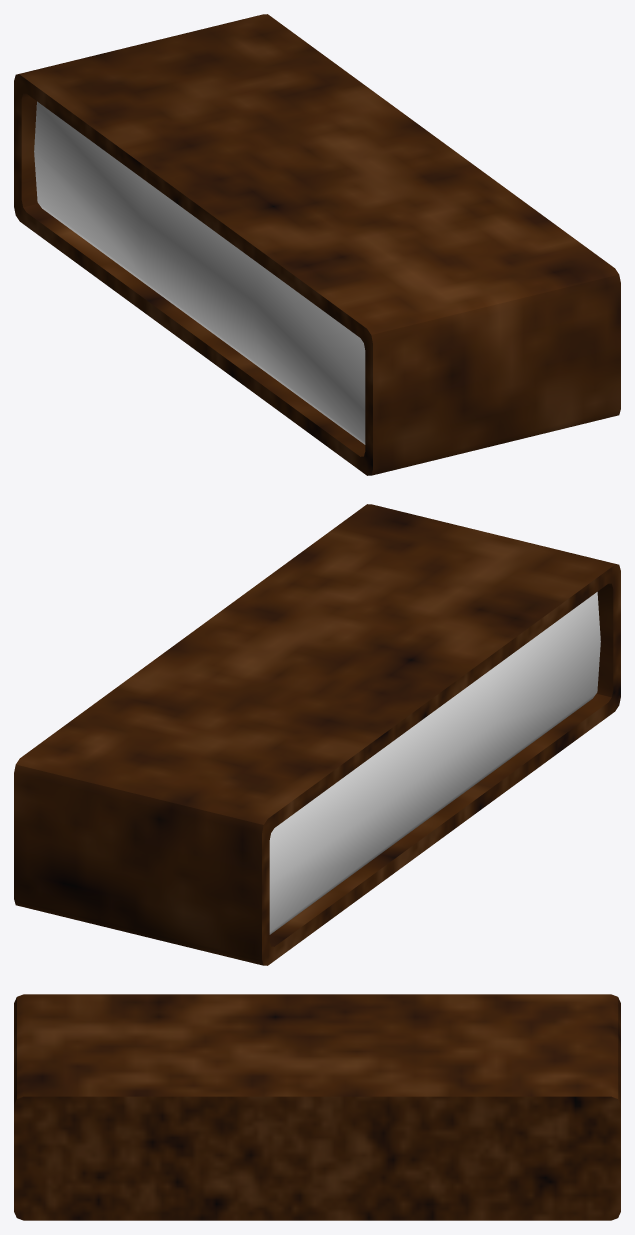
File: MoneyCounter.glb
The picture shows the model from 3 angles, top to bottom: view 1: azimuth 30°, elevation 25°; view 2: azimuth 150°, elevation 25°; view 3: azimuth 270°, elevation 25°; orthographic projection. The views are drawn at different scales.
Visible parts, largest first — view 1: MoneyCounter; view 2: MoneyCounter; view 3: MoneyCounter.
Part boxes in pixels (bbox=[...]): MoneyCounter: bbox=[14, 14, 620, 475]; MoneyCounter: bbox=[14, 504, 620, 965]; MoneyCounter: bbox=[14, 994, 620, 1220].
Bounding box in the file's own units: 0.8156 × 0.4619 × 2.05.
Materials: 2 (1 with a texture image).
